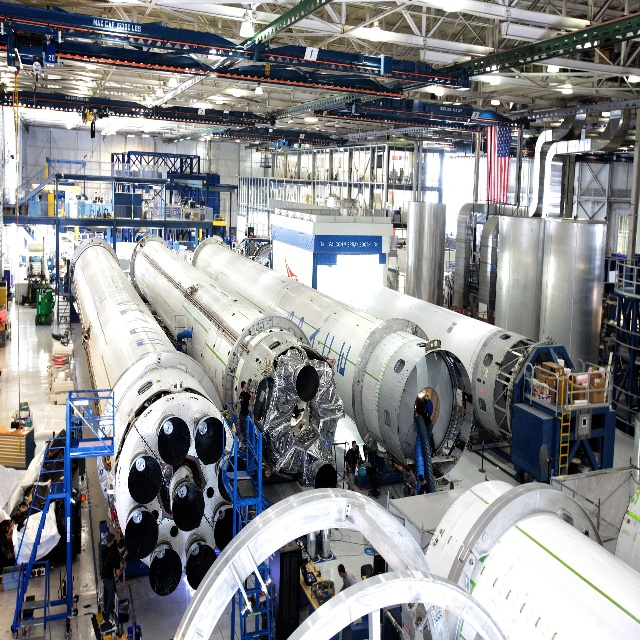Sin_guantes: (122, 560, 127, 568)
